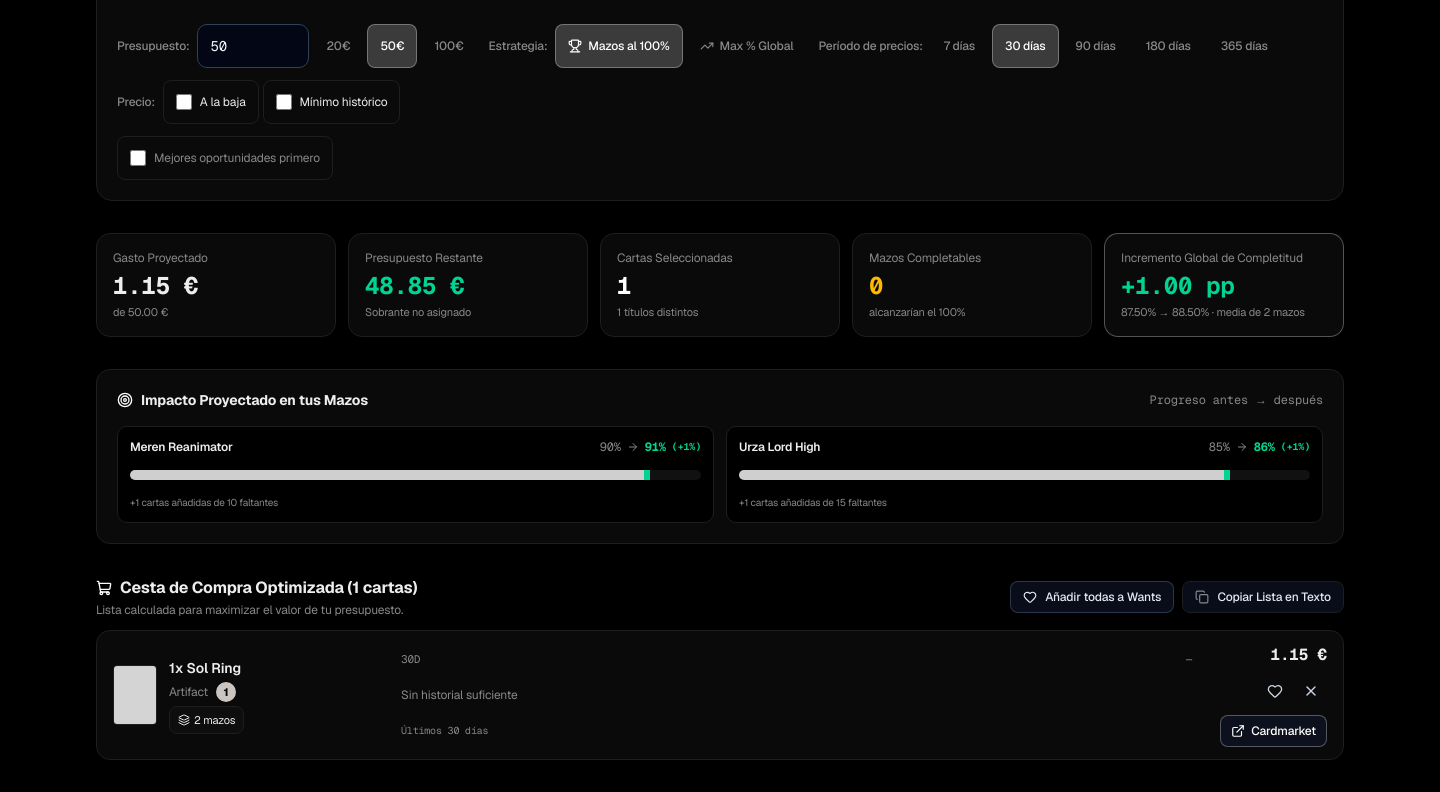
Test: PrioritiesView - Card Detail & Cheapest Reprint › opens the requesting decks modal from the compact Golden Wants row
(page scrolled)
What coordinates should you click on to do the following:
click the button with aria-label "Ver mazos que piden Sol Ring"
I would click on:
 (207, 720)
Its box is [169, 706, 244, 734].
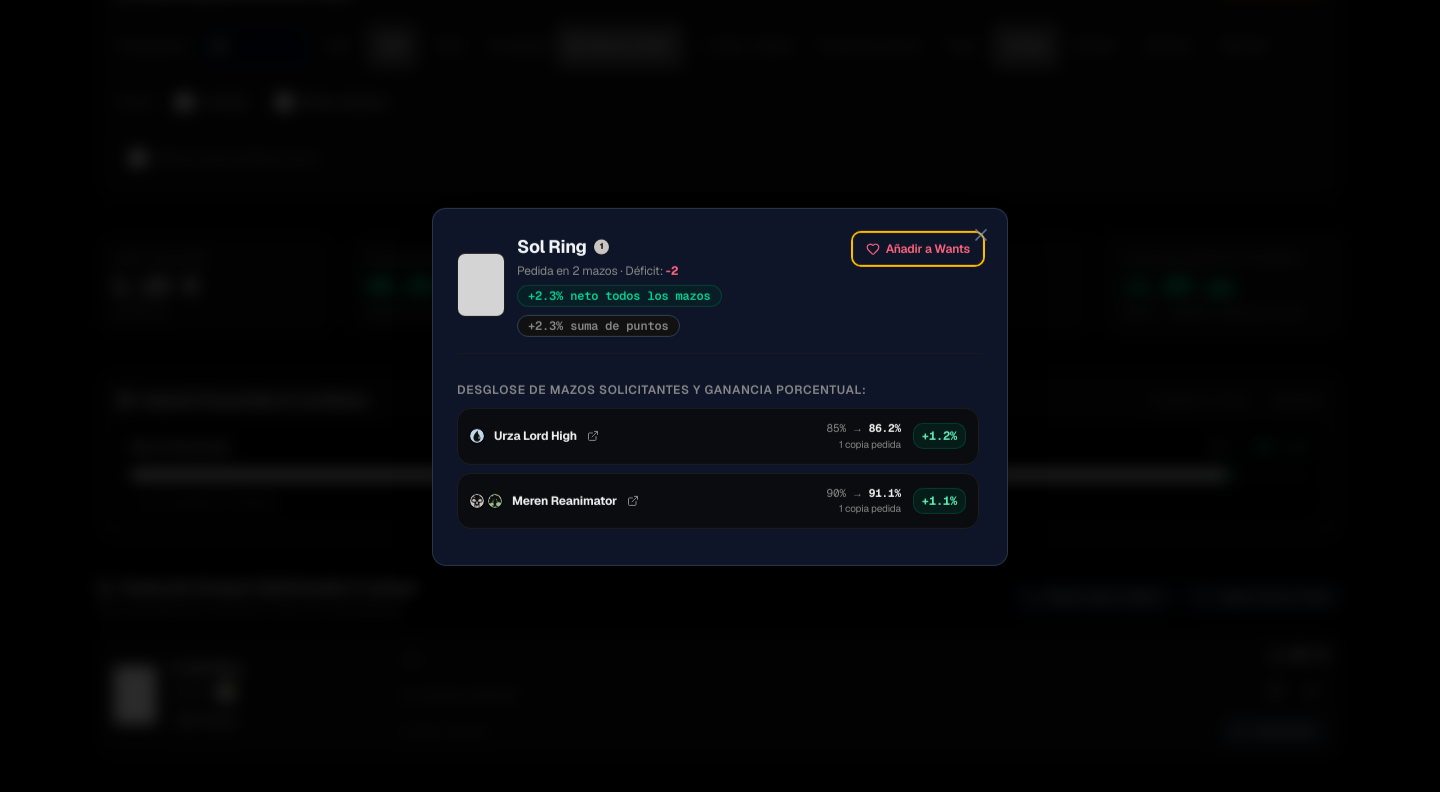
Expected: the dialog is shown, [432, 208, 1008, 566]
